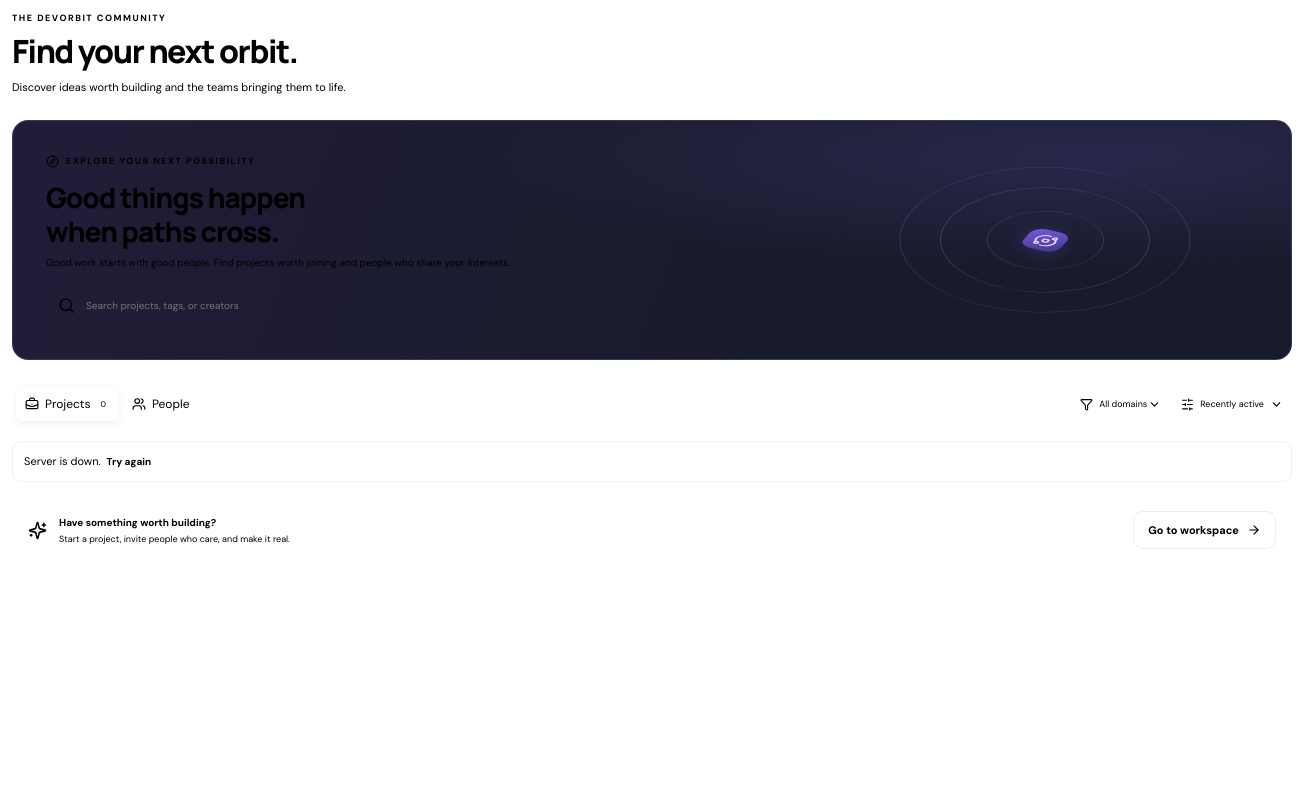
Test: Discover with real data: projects › shows the error and can try again
Expected: the message shows "Server is down.", [24,454,101,468]
Click the button "Try again".
click(129, 462)  # box [104,451,154,472]
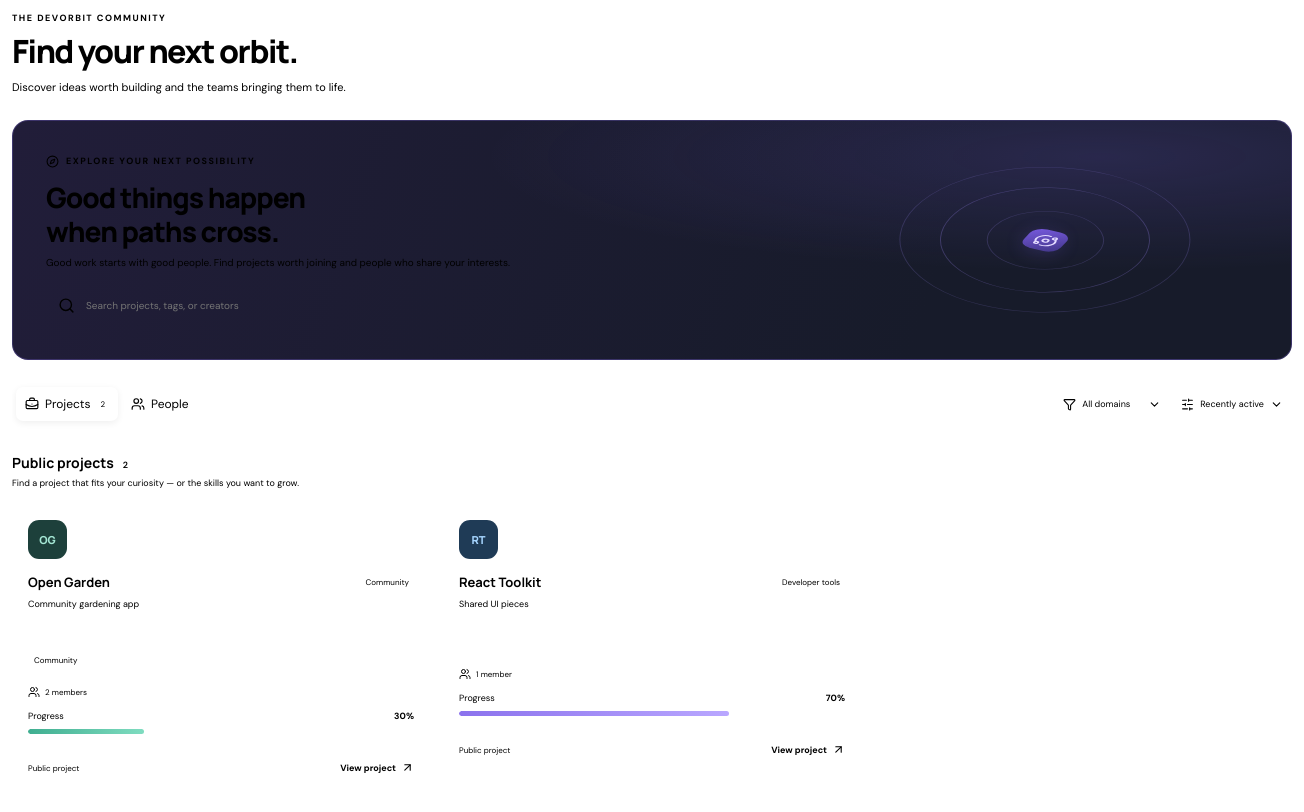
Result: the heading "Open Garden" is shown at [28,573,110,591]
